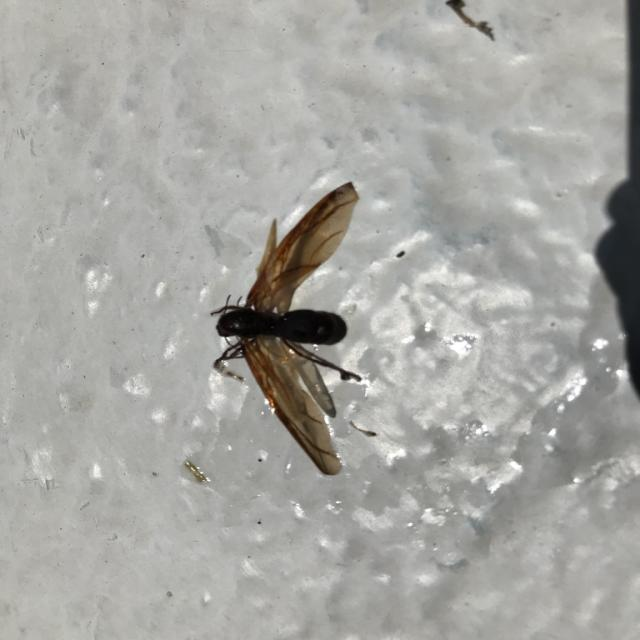Dead-Female-Alate: (208, 180, 362, 477)
